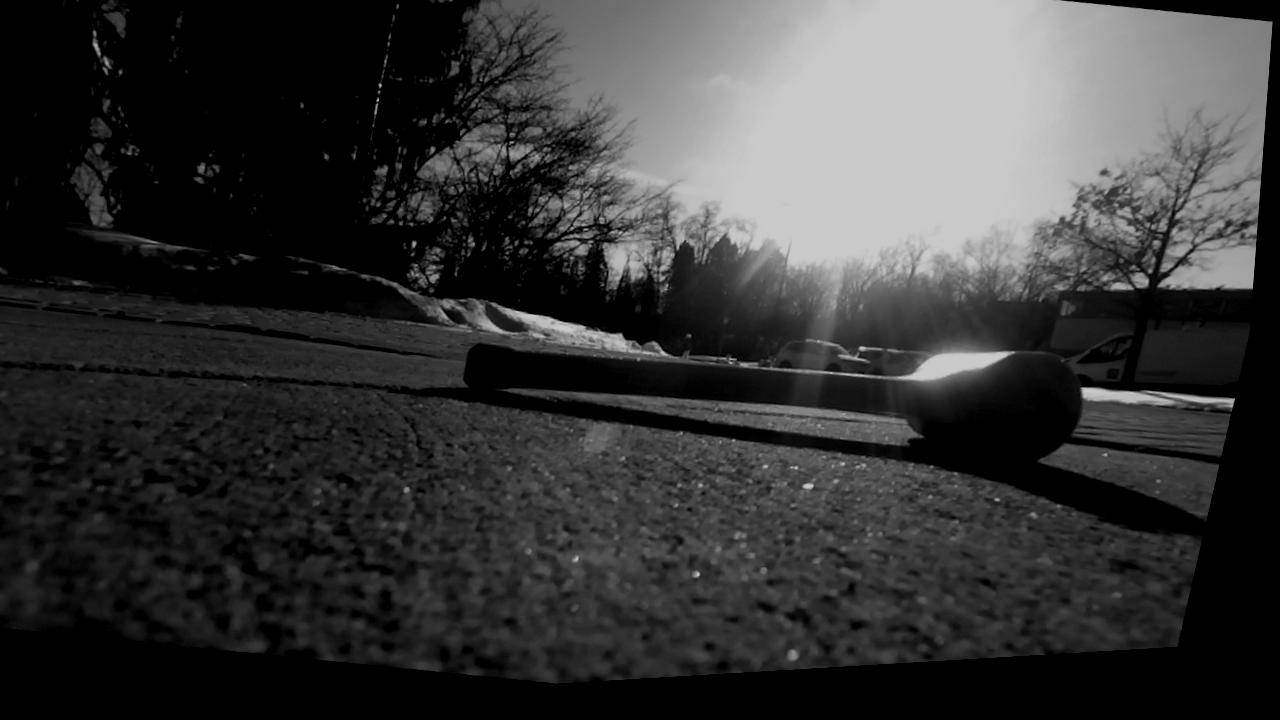mallet: (463, 342, 1080, 460)
